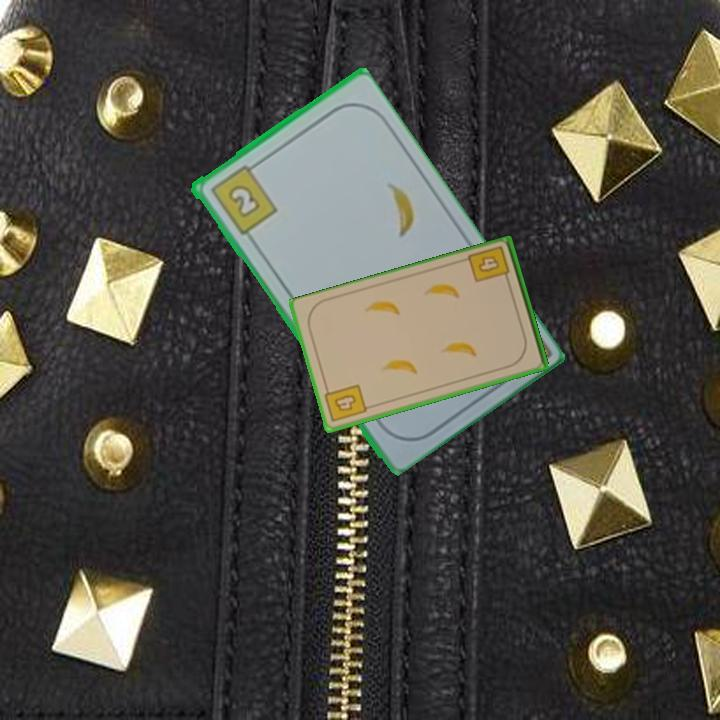2b: (206, 159, 280, 238)
4b: (321, 381, 370, 425), (465, 243, 513, 287)
